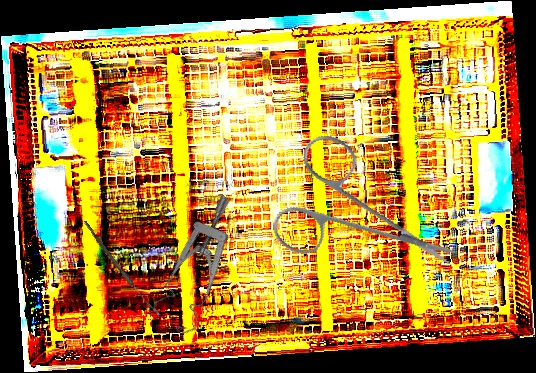Iris Scissors: (248, 106, 459, 318)
Speculum: (127, 193, 278, 342)
Surgical Spoon: (81, 220, 153, 309)
